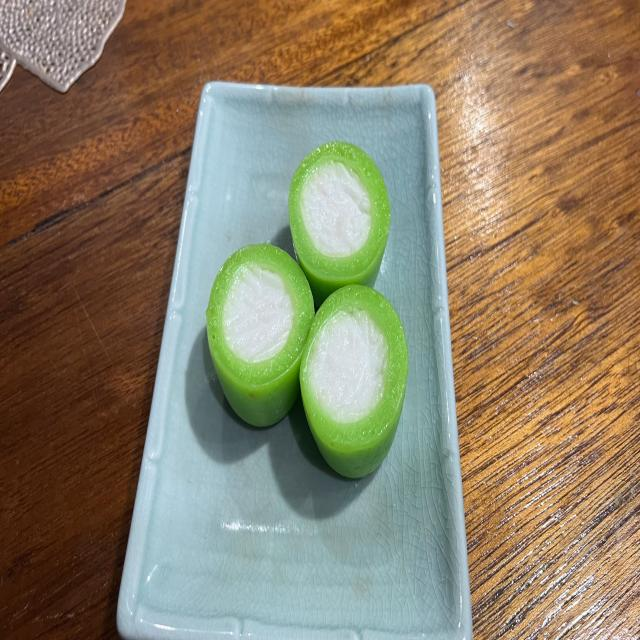nona-manis: (300, 284, 409, 478), (206, 244, 315, 427), (289, 142, 390, 307)
